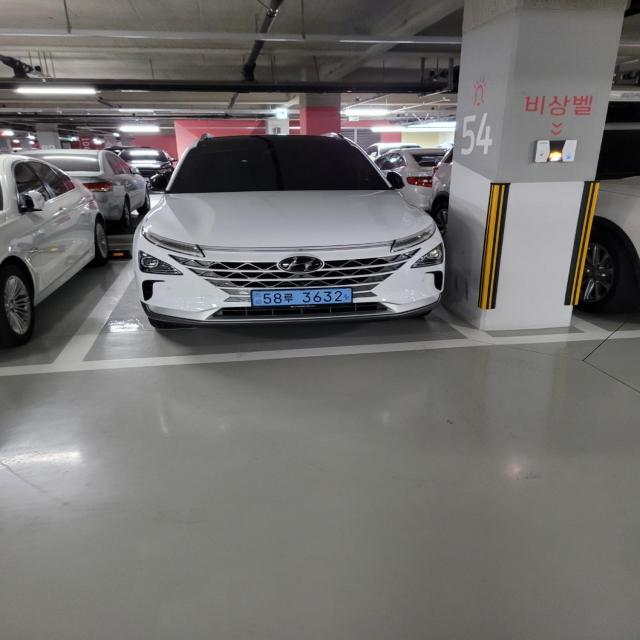EV_plate: (245, 284, 360, 313)
car: (133, 130, 451, 340)
